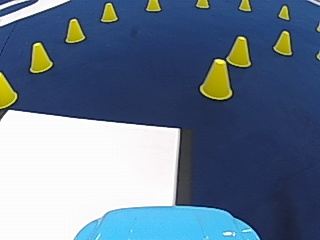cone: (199, 58, 232, 99), (226, 35, 251, 67), (28, 41, 52, 73), (0, 71, 17, 107), (65, 17, 85, 42), (273, 29, 292, 55), (100, 2, 118, 22), (277, 4, 290, 19), (146, 0, 160, 12), (238, 0, 251, 11), (196, 0, 208, 8)
